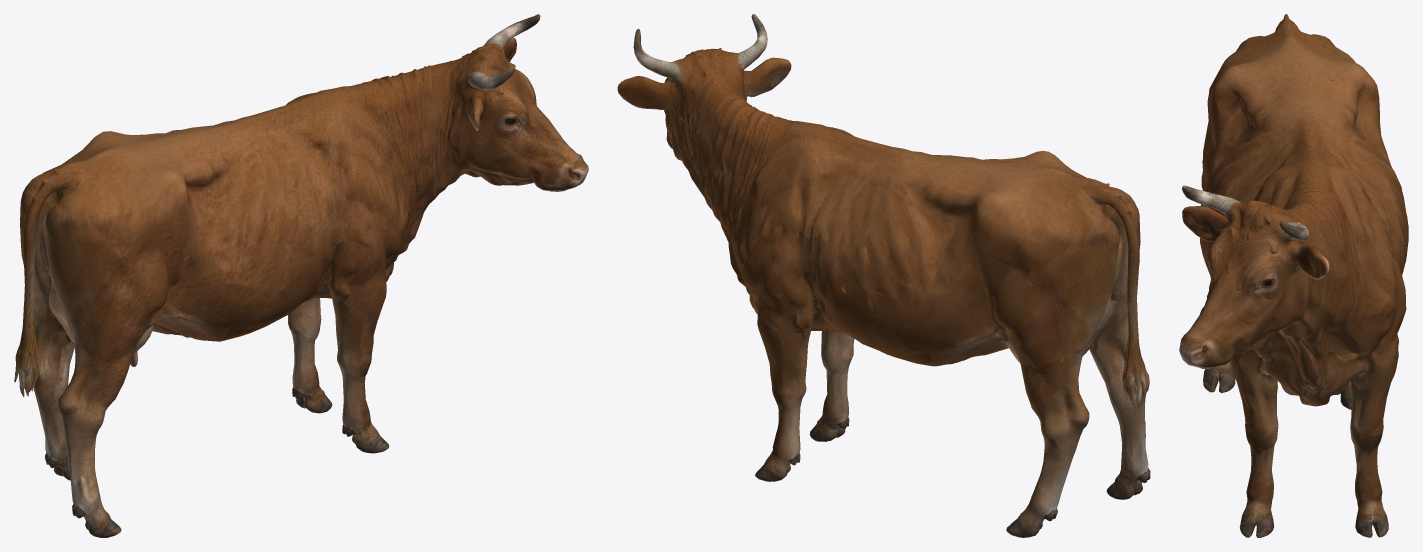
The model's file is cow.glb.
3 renders of one model, left to right at view 1: azimuth 30°, elevation 25°; view 2: azimuth 150°, elevation 25°; view 3: azimuth 270°, elevation 25°, orthographic. The views are drawn at different scales.
Parts seen in each view (by area): view 1: Mesh_0; view 2: Mesh_0; view 3: Mesh_0.
Boxes of the visible parts, bbox=[...] form: Mesh_0: bbox=[14, 14, 588, 537]; Mesh_0: bbox=[617, 14, 1150, 537]; Mesh_0: bbox=[1179, 14, 1408, 537].
Size of the model in its own units: 2.15 by 1.5 by 0.7716.
Materials: 1 (1 with a texture image).
